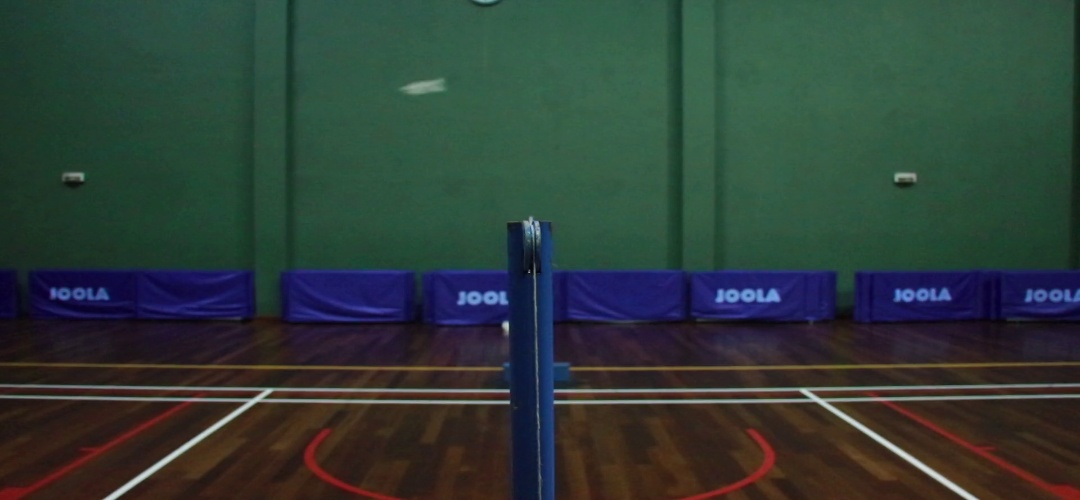c1: (239, 392, 274, 409)
c2: (797, 394, 838, 409)
net_level: (505, 222, 555, 293)
shuttle: (395, 75, 454, 97)
